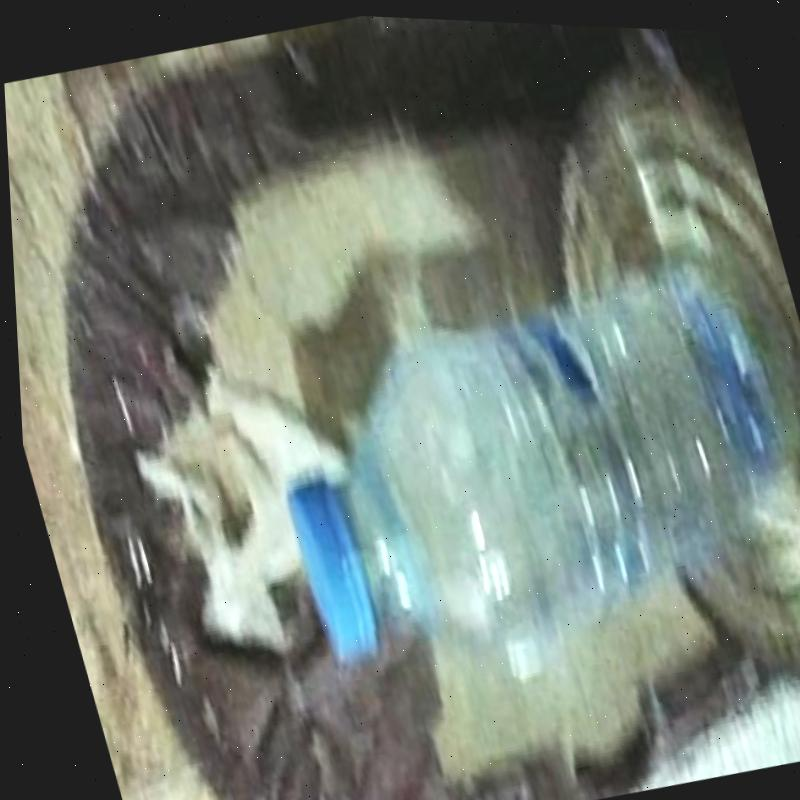botella: (232, 227, 800, 725)
